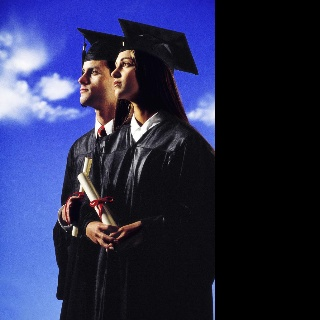without_mask: (77, 59, 113, 103), (110, 49, 139, 99)
